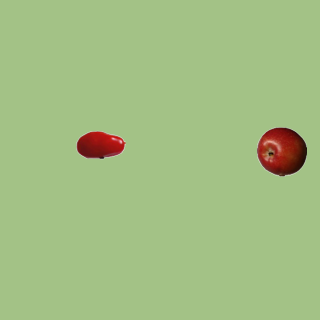Apple Braeburn: (256, 126, 306, 176)
Tomato 2: (75, 119, 125, 169)
